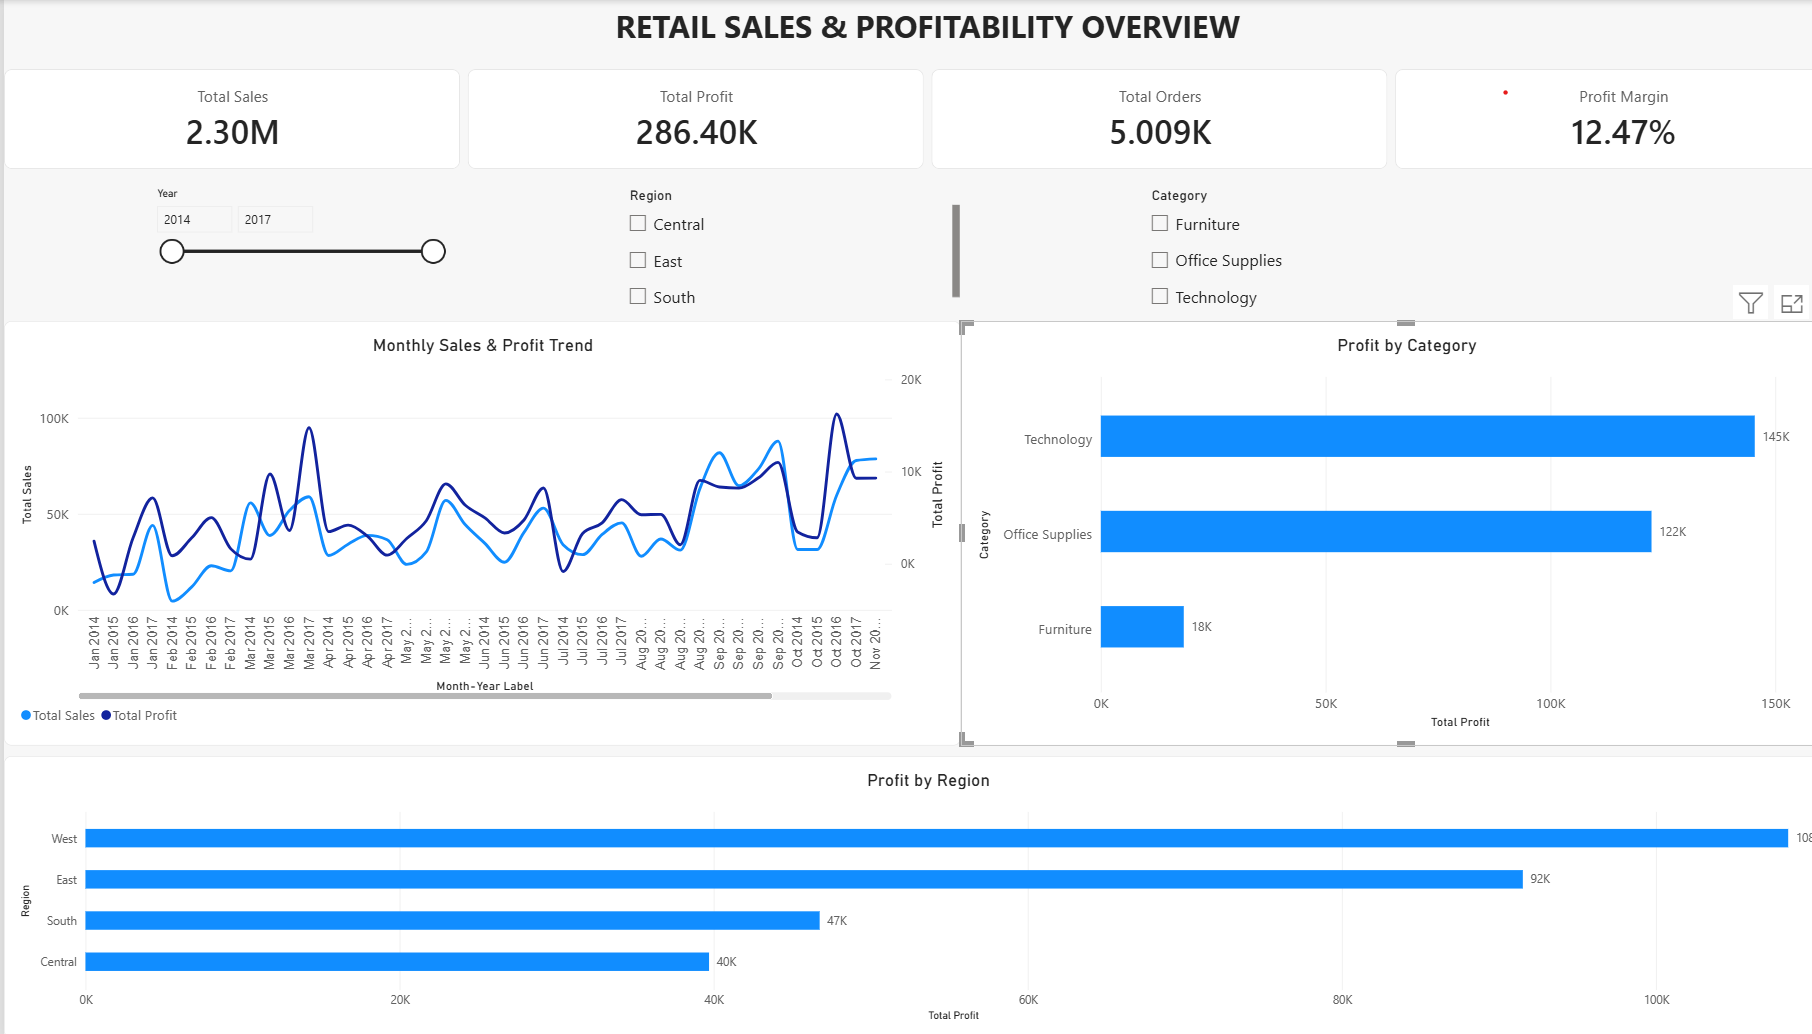

The dashboard page shown, as its layout file describes it:
{"tool":"powerbi","page":{"name":"Executive Overview","canvas":[1920,1080],"ordinal":0},"visuals":[{"type":"cardVisual","fields":{"Data":["Superstore_Cleaned.Total Sales","Superstore_Cleaned.Total Profit","Superstore_Cleaned.Total Orders","Superstore_Cleaned.Profit Margin"]},"box":[0,71.3,1920.6,104.3],"z":0},{"type":"lineChart","title":"Monthly Sales & Profit Trend","fields":{"Y":["Superstore_Cleaned.Total Sales"],"Y2":["Superstore_Cleaned.Total Profit"],"Category":["Superstore_Cleaned.Month-Year Label"]},"box":[10.4,333.7,983.8,441.5],"z":1000},{"type":"clusteredBarChart","title":"Profit by Category","fields":{"Category":["Superstore_Cleaned.Category"],"Y":["Superstore_Cleaned.Total Profit"]},"box":[994.2,333.7,926.4,441.5],"z":2000},{"type":"clusteredBarChart","title":"Profit by Region","fields":{"Category":["Superstore_Cleaned.Region"],"Y":["Superstore_Cleaned.Total Profit"]},"box":[10.4,797.8,1909.9,280.5],"z":3000},{"type":"textbox","box":[1651,239,269,191],"z":4000},{"type":"textbox","box":[0,5.4,1920.6,66.1],"z":5000},{"type":"slicer","fields":{"Values":["Superstore_Cleaned.Year"]},"box":[151.2,194.7,311.1,139],"z":6000},{"type":"slicer","fields":{"Values":["Superstore_Cleaned.Region"]},"box":[643.1,194.7,351.1,139],"z":7000},{"type":"slicer","fields":{"Values":["Superstore_Cleaned.Category"]},"box":[1185.4,194.7,690,139],"z":8000}]}

Visuals, with their boxes in screenshot pixels (x1, y1, x2, y2), scaled from the page's 1920x1080 canvas onto the 1812x1034 screenshot:
cardVisual - Superstore_Cleaned.Total Sales x Superstore_Cleaned.Total Profit: [0, 68, 1811, 168]
"Monthly Sales & Profit Trend" lineChart: [10, 319, 938, 742]
"Profit by Category" clusteredBarChart: [938, 319, 1811, 742]
"Profit by Region" clusteredBarChart: [10, 764, 1811, 1032]
textbox: [1558, 229, 1811, 412]
textbox: [0, 5, 1811, 68]
slicer - Superstore_Cleaned.Year: [143, 186, 436, 319]
slicer - Superstore_Cleaned.Region: [607, 186, 938, 319]
slicer - Superstore_Cleaned.Category: [1119, 186, 1770, 319]
